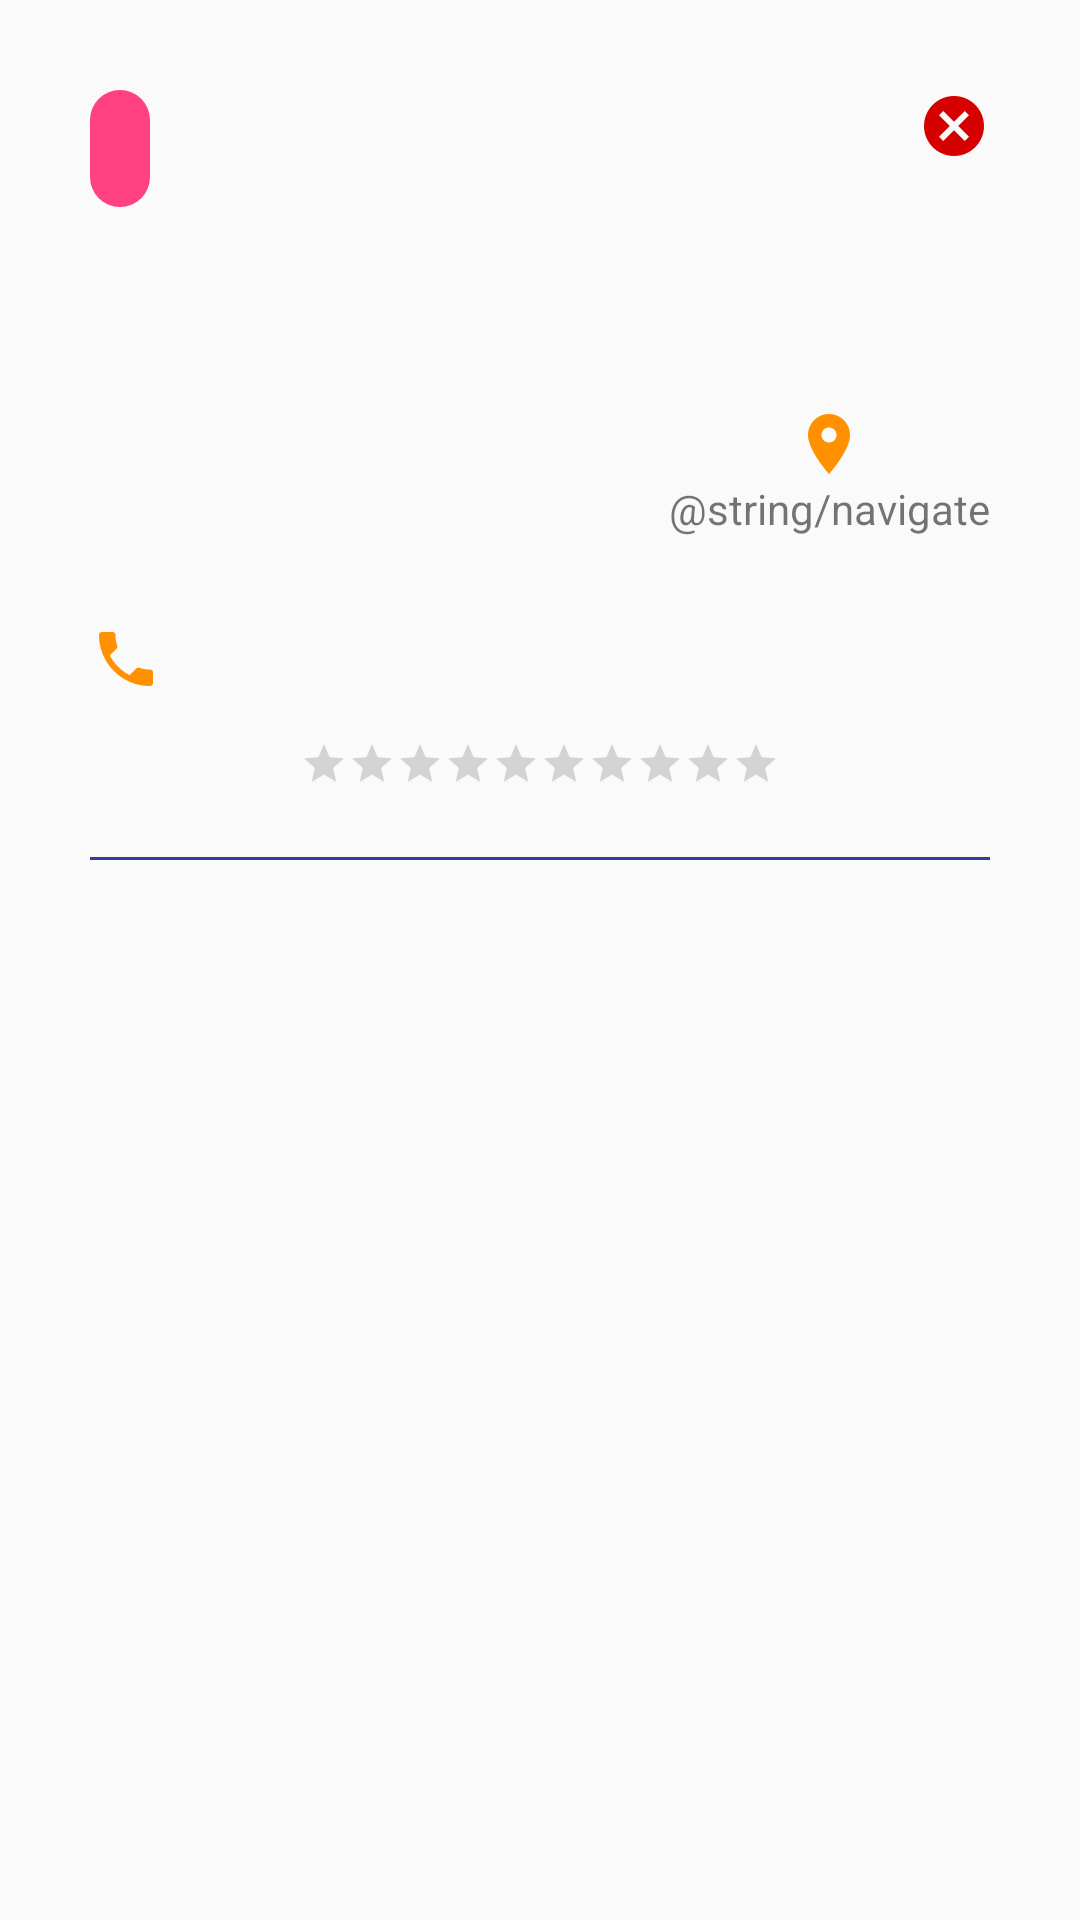

Screen size 1080w x 1920h. Icon name, then its center in pixels as point (x, y):
cancel: point (954, 126)
